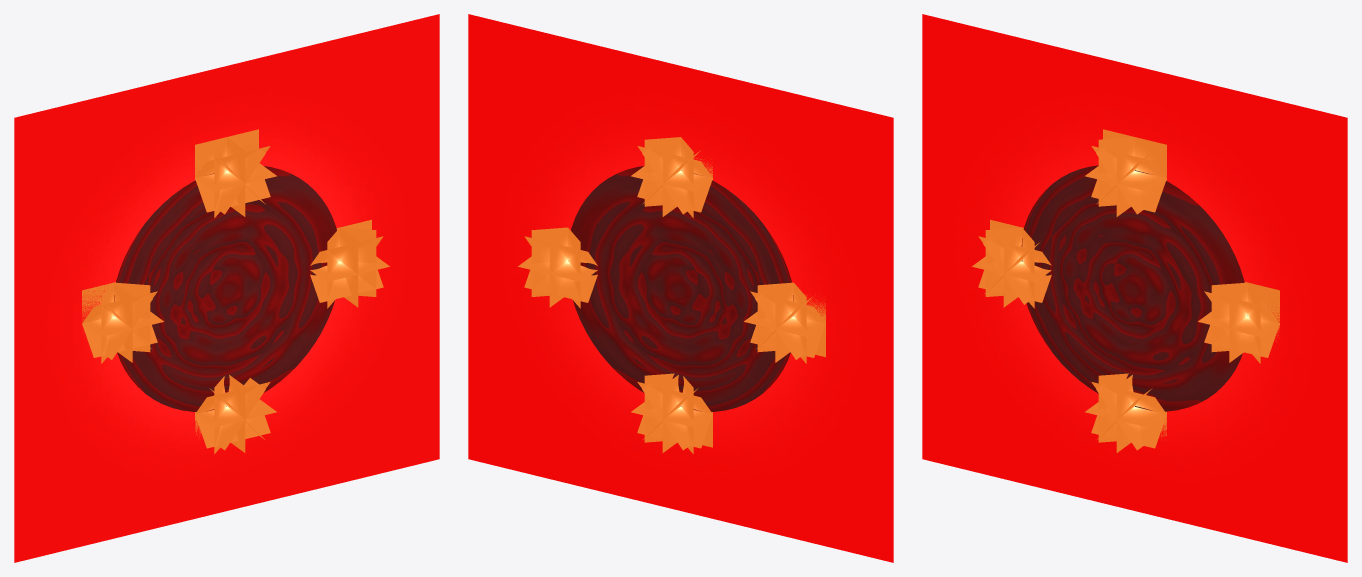
The model's file is executor_warp_gate.glb.
3 renders of one model, left to right at view 1: azimuth 30°, elevation 25°; view 2: azimuth 150°, elevation 25°; view 3: azimuth 330°, elevation 25°, orthographic.
Parts seen in each view (by area): view 1: Plane_38, warpeff_40, Plane.031_33, Plane.033_35, Plane.002_1, Plane.030_32, Plane.015_15, Plane.006_5, Plane.008_7, Plane.010_10, Plane.001_0, Plane.017_17 (+9 smaller); view 2: Plane_38, warpeff_40, Plane.032_34, Plane.034_36, Plane.030_32, Plane.028_30, Plane.019_20, Plane.010_10, Plane.001_0, Plane.021_22, Plane.003_2, Plane.026_27 (+9 smaller); view 3: Plane_38, warpeff_40, Plane.032_34, Plane.033_35, Plane.002_1, Plane.030_32, Plane.010_10, Plane.001_0, Plane.028_30, Plane.021_22, Plane.003_2, Plane.009_8 (+13 smaller).
Part boxes in pixels (<box>): Plane_38: <box>14,14,439,562</box>; warpeff_40: <box>114,166,336,411</box>; Plane.031_33: <box>340,227,376,296</box>; Plane.033_35: <box>310,270,383,302</box>; Plane.002_1: <box>195,129,258,180</box>; Plane.030_32: <box>340,228,358,307</box>; Plane.015_15: <box>195,414,270,448</box>; Plane.006_5: <box>195,178,270,212</box>; Plane.008_7: <box>218,140,265,214</box>; Plane.010_10: <box>195,399,276,427</box>; Plane.001_0: <box>195,163,276,191</box>; Plane.017_17: <box>218,378,265,450</box>; Plane_38: <box>468,14,893,562</box>; warpeff_40: <box>571,166,793,411</box>; Plane.032_34: <box>531,227,567,296</box>; Plane.034_36: <box>524,270,597,302</box>; Plane.030_32: <box>549,228,567,307</box>; Plane.028_30: <box>518,256,597,281</box>; Plane.019_20: <box>744,311,825,337</box>; Plane.010_10: <box>631,402,712,427</box>; Plane.001_0: <box>631,166,712,191</box>; Plane.021_22: <box>775,283,793,362</box>; Plane.003_2: <box>662,137,680,216</box>; Plane.026_27: <box>755,293,802,359</box>; Plane_38: <box>922,14,1347,562</box>; warpeff_40: <box>1021,165,1244,411</box>; Plane.032_34: <box>1211,282,1247,352</box>; Plane.033_35: <box>1204,324,1279,357</box>; Plane.002_1: <box>1103,129,1166,180</box>; Plane.030_32: <box>1229,283,1247,362</box>; Plane.010_10: <box>1085,402,1166,427</box>; Plane.001_0: <box>1085,166,1166,191</box>; Plane.028_30: <box>1198,311,1279,337</box>; Plane.021_22: <box>1003,228,1021,307</box>; Plane.003_2: <box>1116,137,1134,216</box>; Plane.009_8: <box>1096,147,1143,214</box>.
Size of the model in its own units: 9.48 by 9.48 by 1.43.
3 materials, 3 textured.
